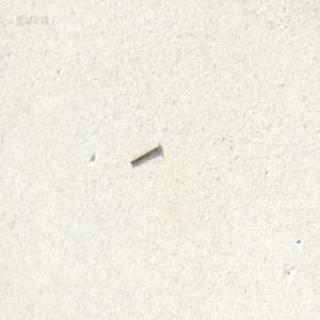Bolttrack_idkeyframe: (128, 140, 159, 164)
